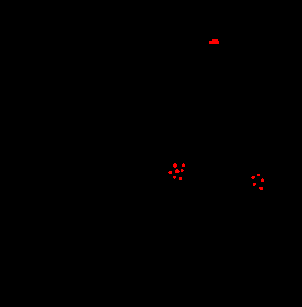Target: (209, 39, 219, 44), (173, 163, 177, 168), (175, 169, 180, 173), (182, 163, 185, 167), (168, 171, 172, 174), (251, 176, 255, 179), (261, 178, 264, 182), (259, 187, 263, 190), (181, 169, 184, 172), (173, 176, 176, 179), (179, 177, 182, 180), (253, 183, 256, 186), (257, 174, 260, 176)
